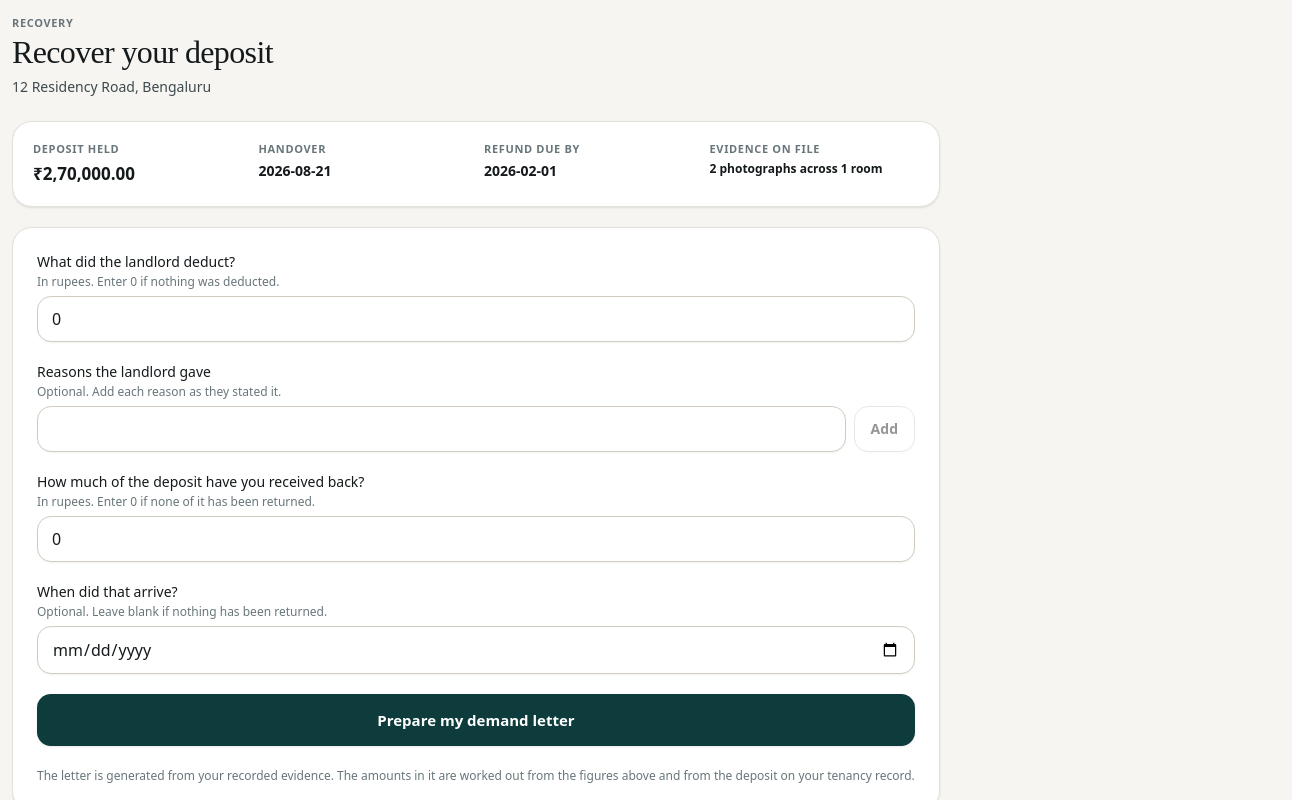
it: Recovery — the result › never claims legal admissibility or a guaranteed recovery
The image size is (1292, 800).
Click the button with test id "submit-claim" at (476, 720), box left=37, top=694, right=915, bottom=746
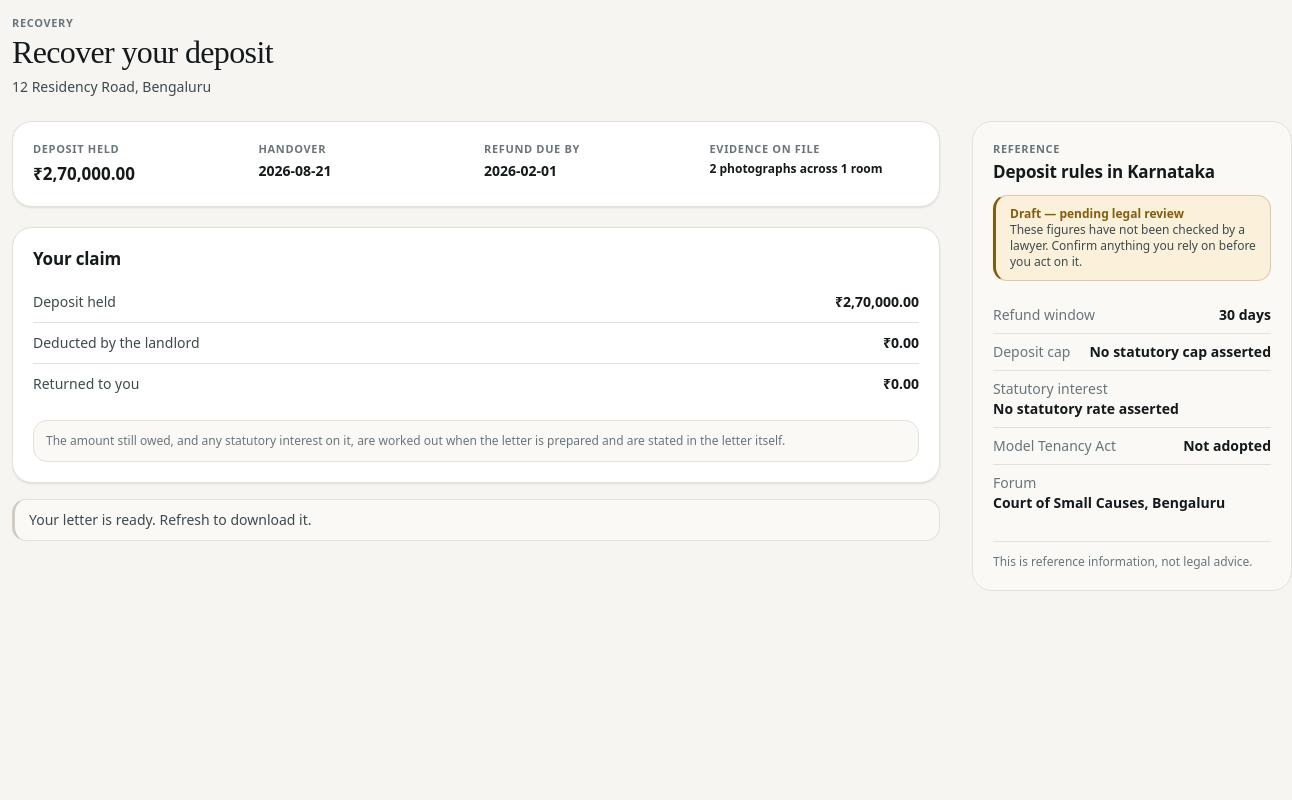
Check: the element with test id "claim-result" is shown, box left=12, top=227, right=940, bottom=541
